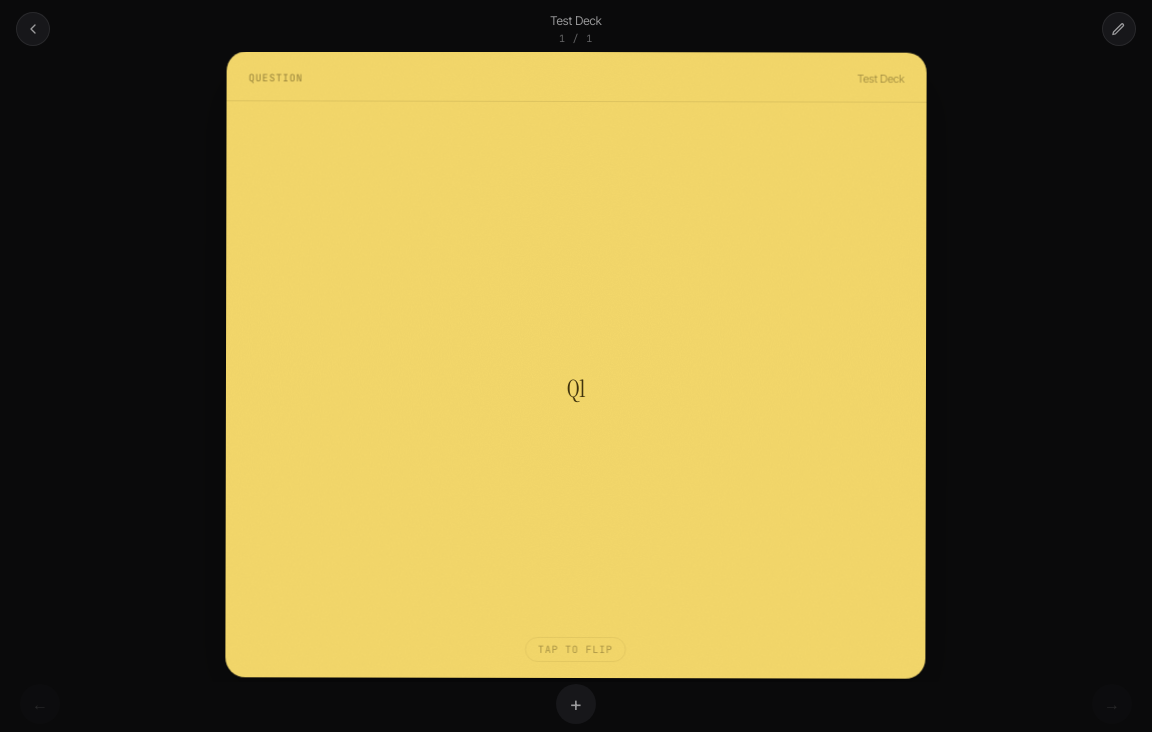
it: StudyViewer — blur saves the inline edit (#15) › blurring to the Q/A toggle does not short-circuit the toggle's own save-and-switch-face behavior
Click the button named "edit card".
click(1119, 29)  # box x1=1102 y1=12 x2=1136 y2=46
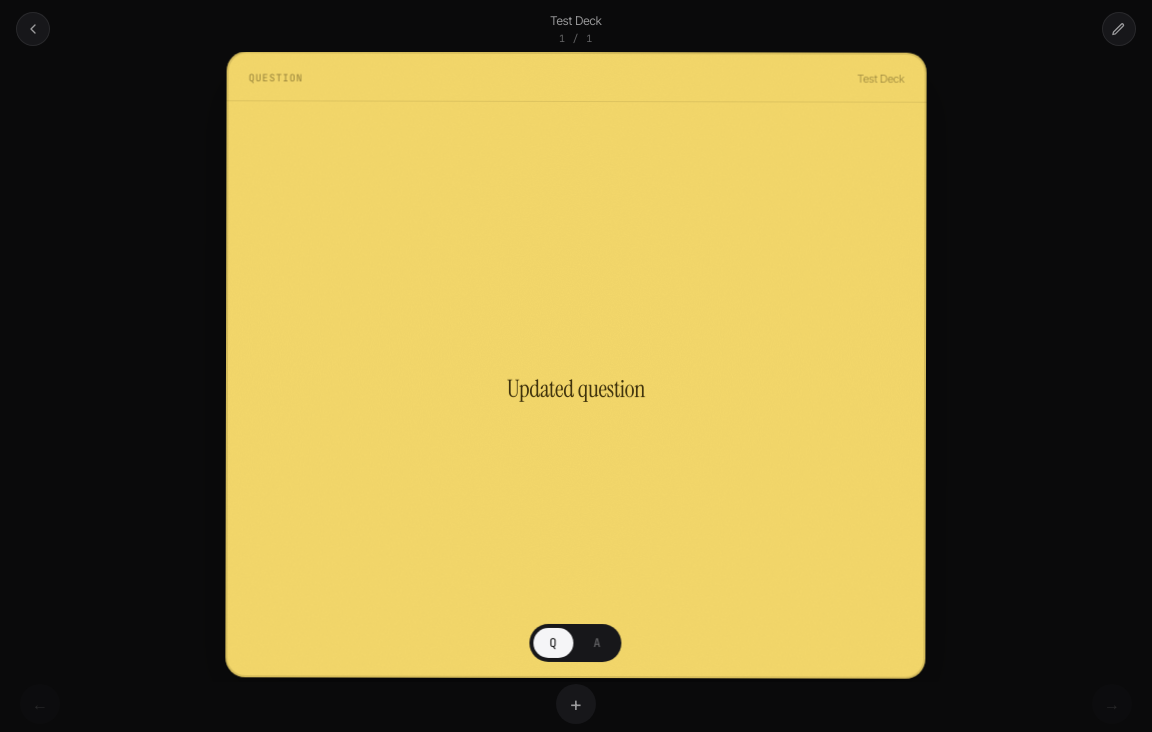
Click the button "A".
click(597, 643)  # box x1=577 y1=628 x2=618 y2=658
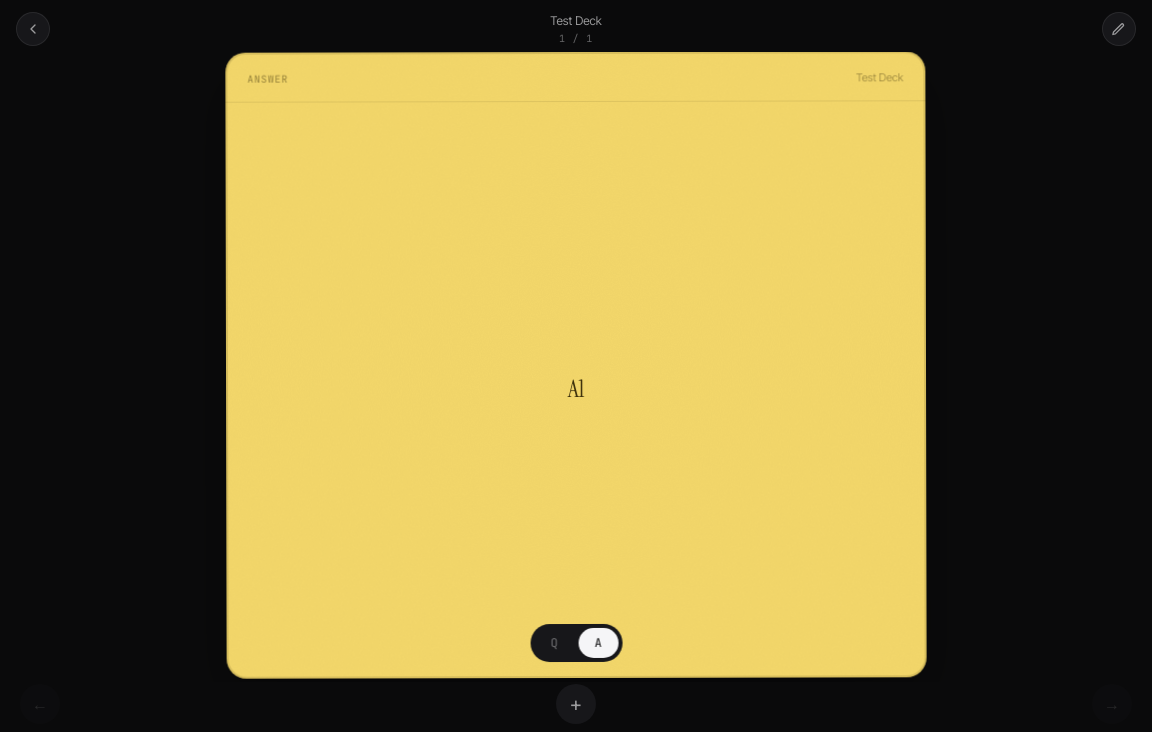
Expected: the field named "Answer" is shown, x1=568 y1=373 x2=584 y2=404
